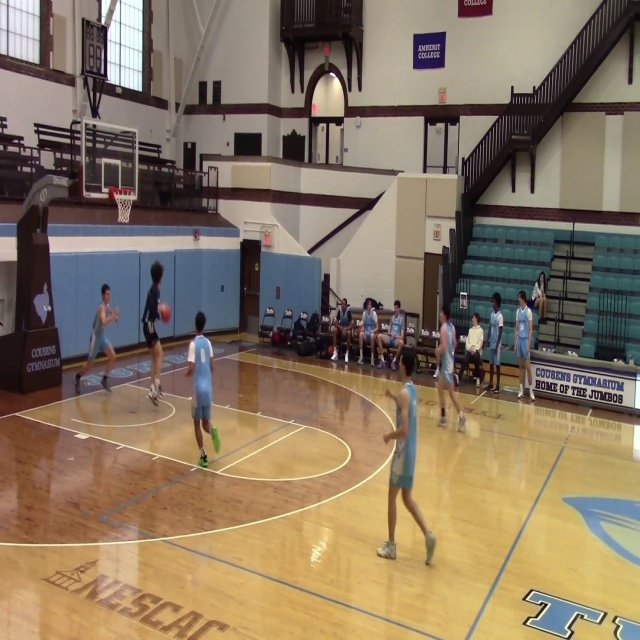Basketball: (150, 261, 163, 283), (157, 303, 171, 323)
